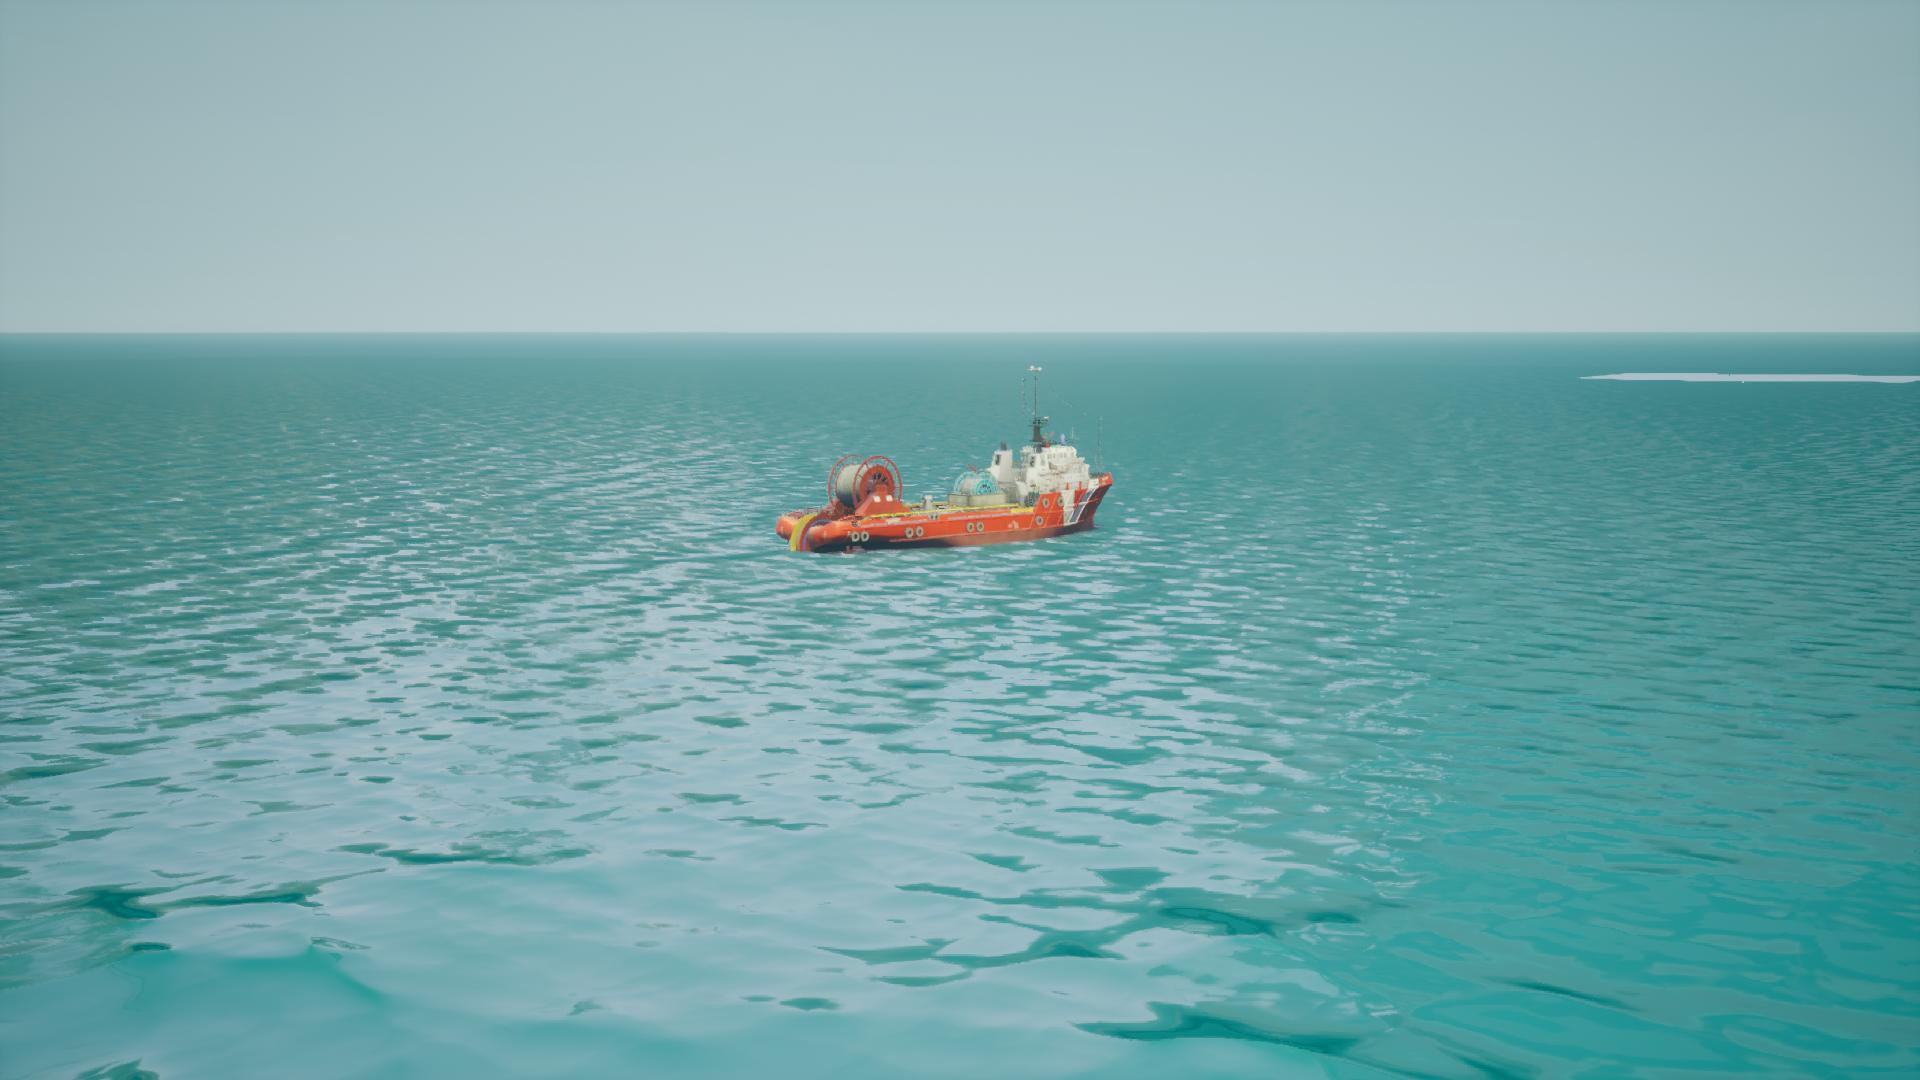Tug Boat: (785, 364, 1117, 559)
